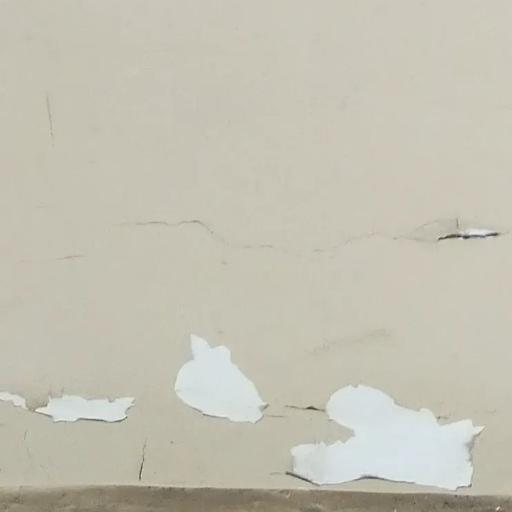peeling: (0, 314, 512, 512), (407, 207, 512, 277)
